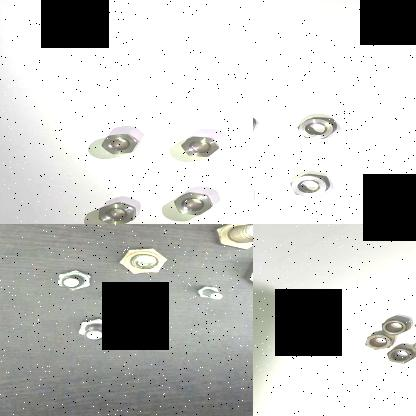Bolts: (117, 245, 168, 276), (48, 267, 94, 293), (73, 317, 117, 343), (211, 224, 253, 250), (192, 282, 234, 303), (97, 289, 128, 310)
NUTS: (96, 131, 146, 158), (295, 114, 336, 142), (172, 190, 216, 216), (288, 173, 331, 199), (180, 135, 221, 160), (95, 201, 139, 224), (358, 334, 399, 352), (383, 346, 414, 366), (378, 318, 410, 336)
